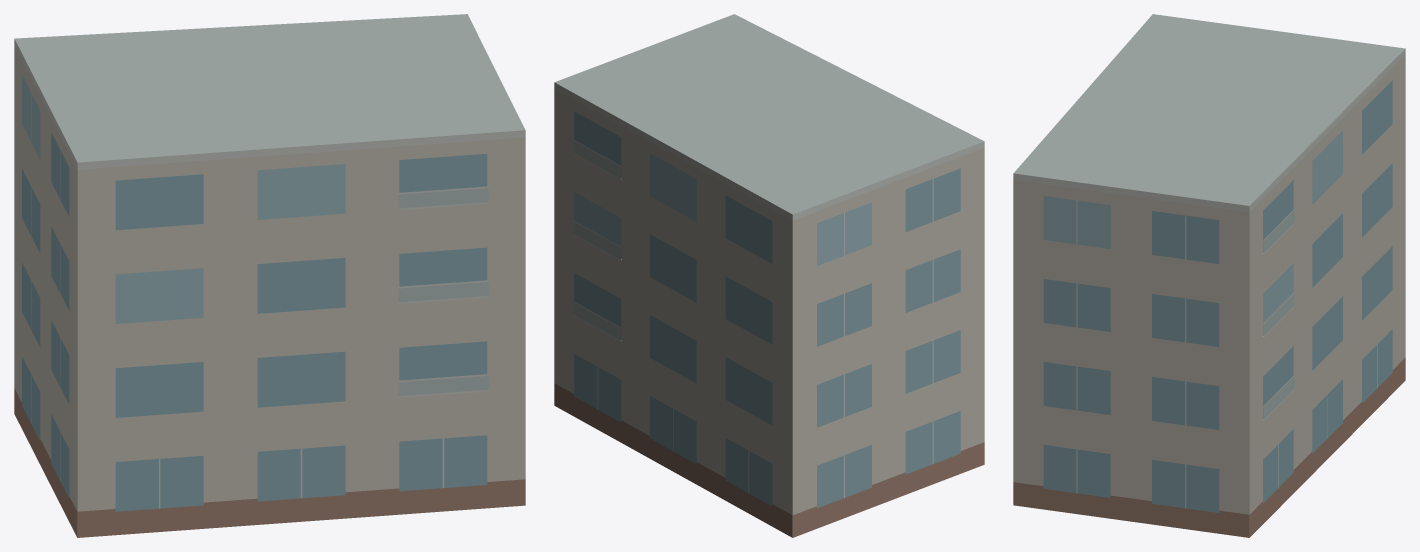
Rendered from survey-upis-32877233.glb.
3 renders of one model, left to right at view 1: azimuth 30°, elevation 25°; view 2: azimuth 150°, elevation 25°; view 3: azimuth 270°, elevation 25°, orthographic. The views are drawn at different scales.
Parts seen in each view (by area): view 1: survey-upis-32877233.tmp; view 2: survey-upis-32877233.tmp; view 3: survey-upis-32877233.tmp.
Boxes of the visible parts, left/top/right/bottom form: survey-upis-32877233.tmp: left=14, top=14, right=525, bottom=537; survey-upis-32877233.tmp: left=554, top=14, right=984, bottom=537; survey-upis-32877233.tmp: left=1013, top=14, right=1405, bottom=537.
Size of the model in its own units: 15.89 by 12.8 by 13.72.
